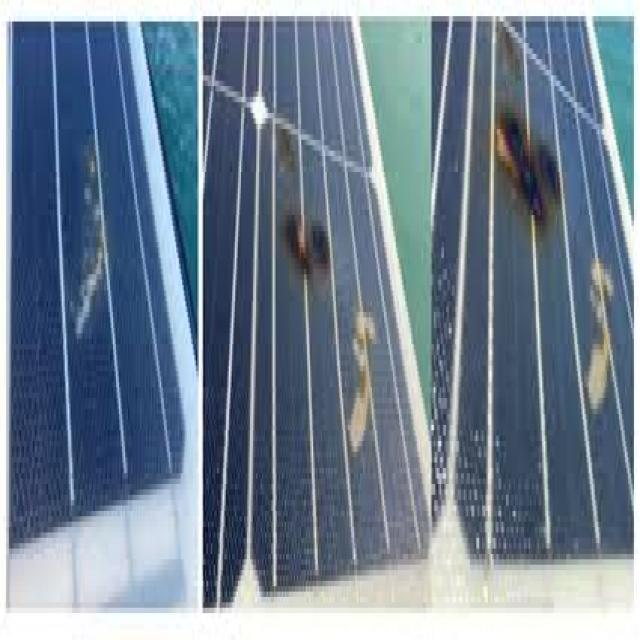faulty: (208, 40, 419, 616), (436, 19, 636, 565), (13, 0, 179, 602)
